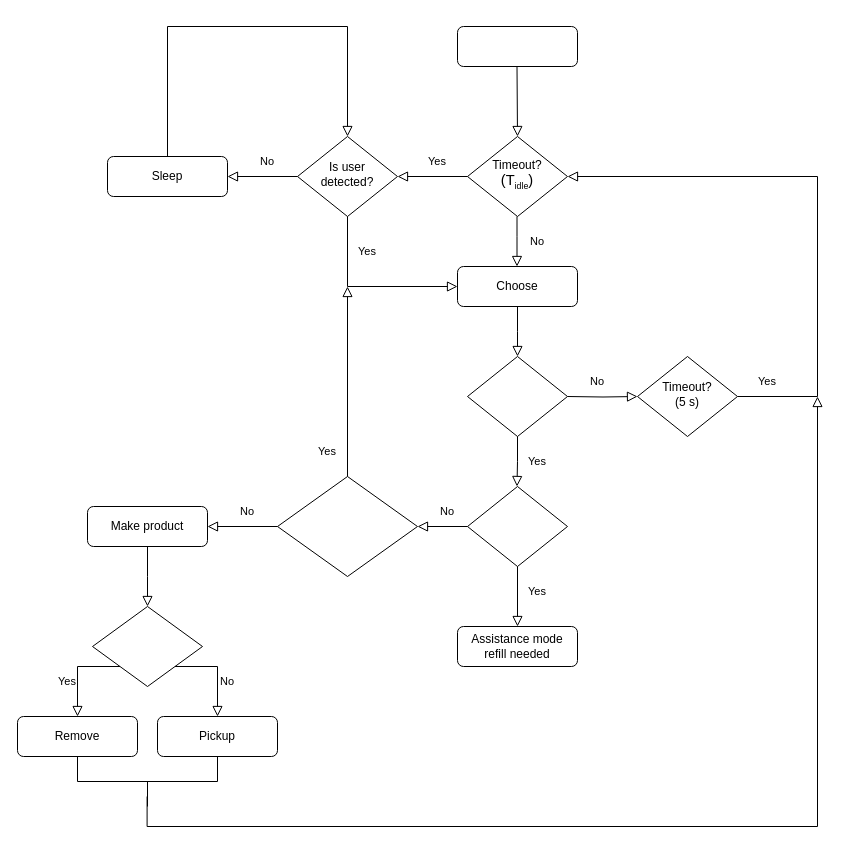
Image size: 845x854. Some labels were removed from this diagram. Here are the shapes that lost their labels. From the top down, the box of each, then its label:
(456, 26, 578, 66): Initialization
(466, 356, 568, 436): Is choosen?
(276, 476, 418, 576): N items of choosen product = 0?
(466, 486, 568, 566): N items = 0?
(92, 606, 202, 686): Is removed?
